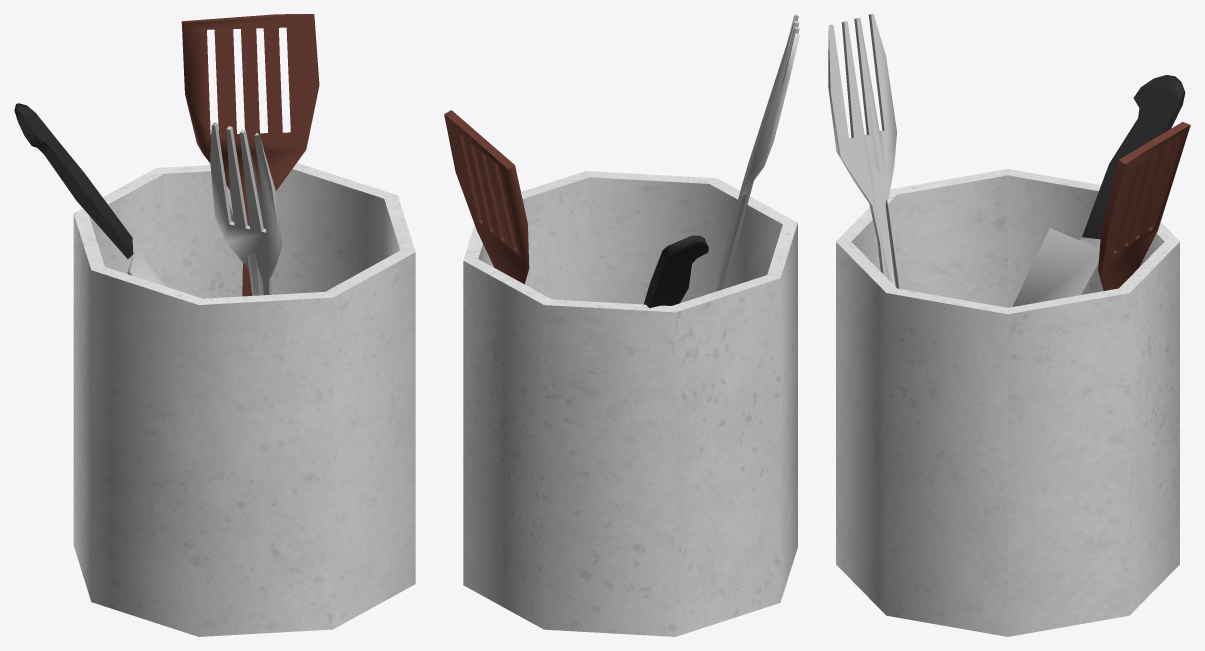
Rendered from UtensilHolder.fbx.
3 views of the same model, side by side, from view 1: azimuth 30°, elevation 25°; view 2: azimuth 150°, elevation 25°; view 3: azimuth 270°, elevation 25° (orthographic). The views are drawn at different scales.
Parts seen in each view (by area): view 1: Cylinder.018; view 2: Cylinder.018; view 3: Cylinder.018.
Boxes of the visible parts, <box> form: Cylinder.018: <box>14,14,415,636</box>; Cylinder.018: <box>444,14,799,636</box>; Cylinder.018: <box>828,14,1190,636</box>.
Size of the model in its own units: 17.4 by 28.05 by 18.33.
4 materials, 1 textured.
